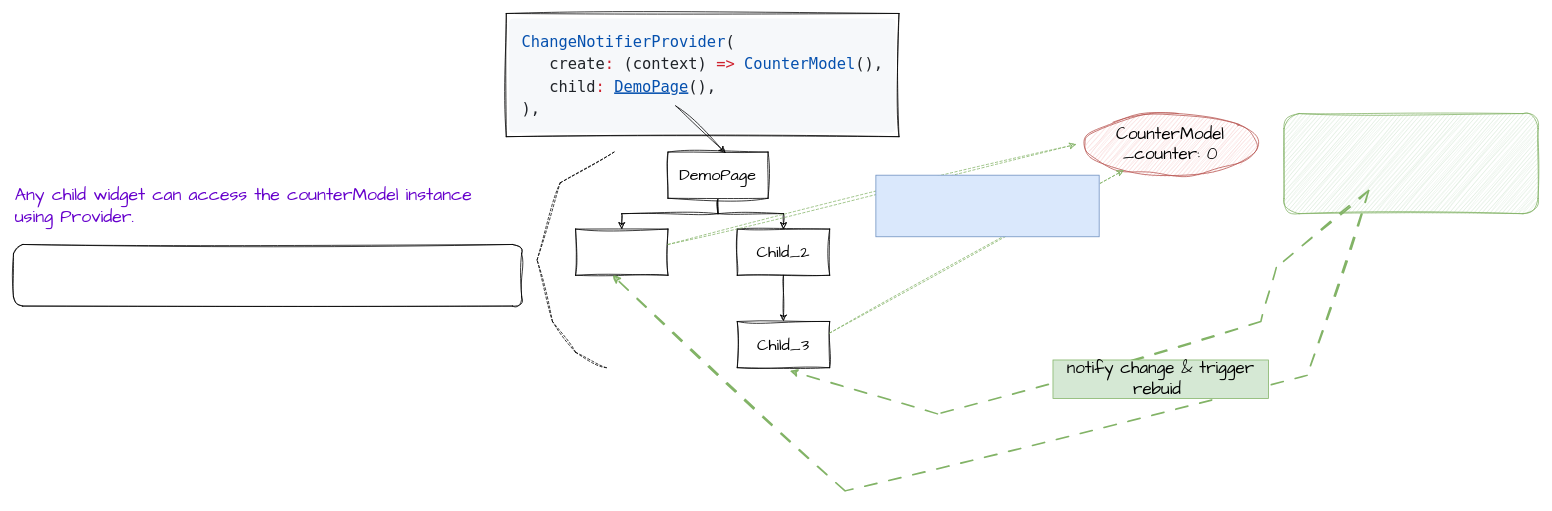
The diagram is 1552 pixels wide and 511 high, and some of its shapes have lost their labels. The box of each missing label's shape, as (x1, y1, x2, y2) in pixels:
Child_1: (575, 228, 668, 275)
counter.increment() => _counter++; notifyListeners();: (1283, 113, 1538, 214)
final counter = Provider . of < CounterModel >(context);: (13, 244, 522, 306)
Say Child_1 and Child_3 depend on CounterModel: (875, 174, 1099, 237)
